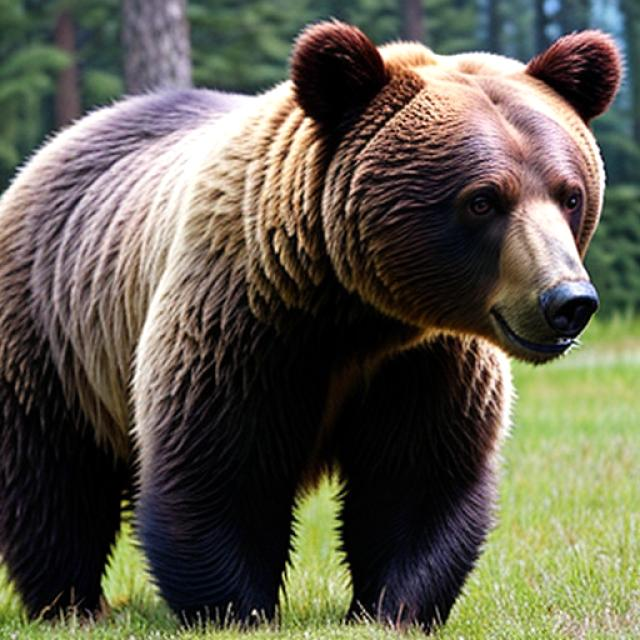bear: (264, 2, 636, 372)
